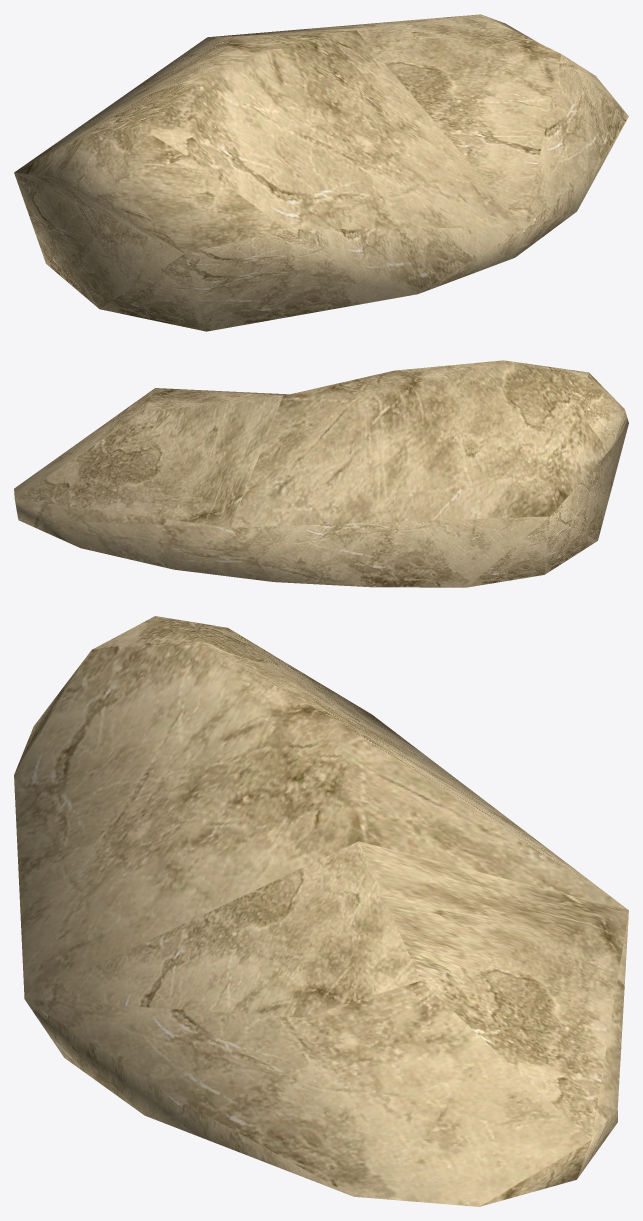
Rendered from geo_desert_05.dae.
The picture shows the model from 3 angles, top to bottom: view 1: azimuth 30°, elevation 25°; view 2: azimuth 150°, elevation 25°; view 3: azimuth 270°, elevation 25°; orthographic projection. The views are drawn at different scales.
Parts seen in each view (by area): view 1: geo_desert_05-Pivot; view 2: geo_desert_05-Pivot; view 3: geo_desert_05-Pivot.
Part boxes in pixels (box(x1,y1,x2,y2)): geo_desert_05-Pivot: box(14, 14, 628, 331); geo_desert_05-Pivot: box(14, 360, 628, 587); geo_desert_05-Pivot: box(14, 616, 628, 1206).
Bounding box in the file's own units: 14.07 × 9.33 × 4.29.
